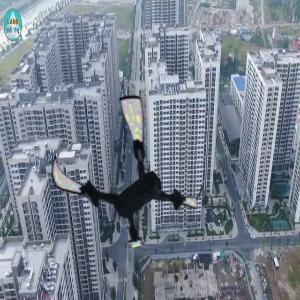drone: (52, 98, 202, 248)
